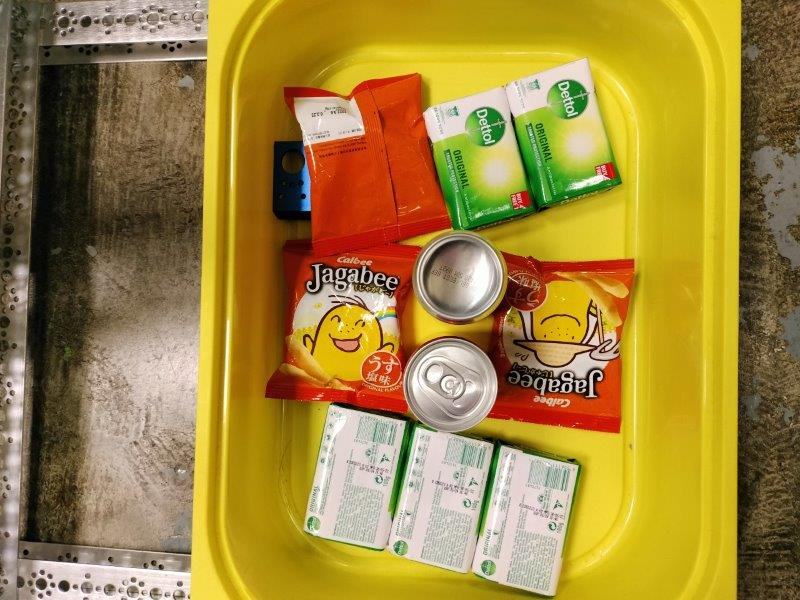Coke: (404, 336, 497, 432), (413, 234, 508, 322)
Dettol: (507, 57, 624, 211), (473, 443, 584, 596), (422, 87, 535, 230), (305, 404, 415, 548), (390, 425, 494, 577)
Jagabee: (287, 72, 447, 253), (494, 255, 637, 434), (279, 241, 410, 413)
